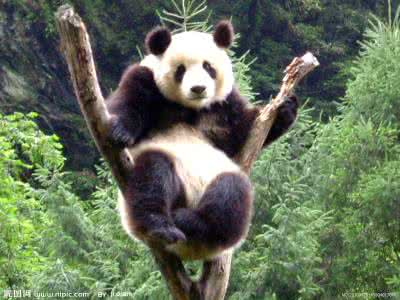panda: (108, 20, 300, 255)
